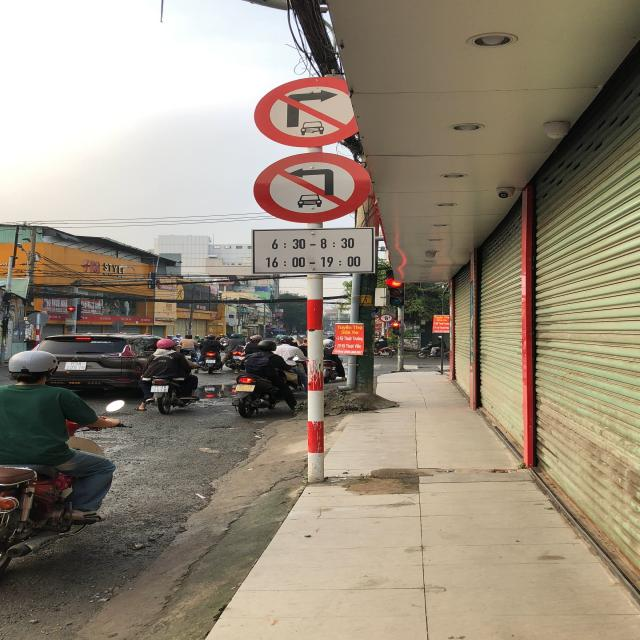Bien bao cam xe o to re phai: (245, 74, 376, 150)
Bien bao cam xe o to re trai: (245, 149, 383, 224)
